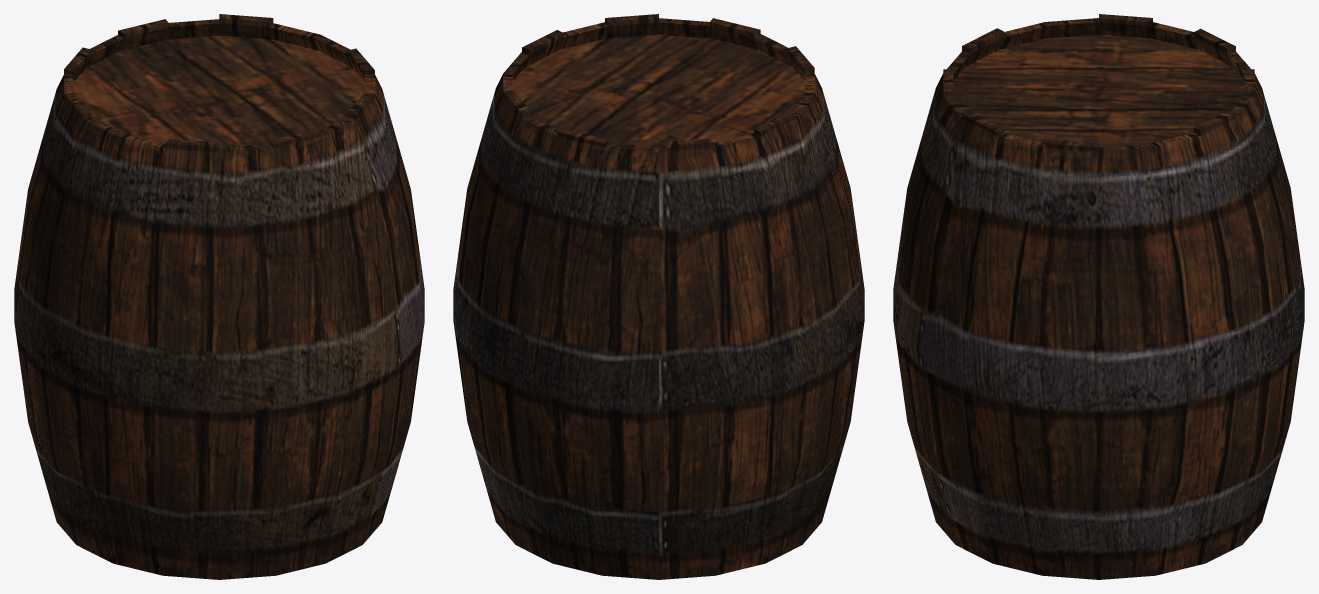
Rendered from barrel.FBX.
3 views of the same model, side by side, from view 1: azimuth 30°, elevation 25°; view 2: azimuth 150°, elevation 25°; view 3: azimuth 270°, elevation 25° (orthographic).
Parts seen in each view (by area): view 1: tonneau; view 2: tonneau; view 3: tonneau.
Boxes of the visible parts, x1=… form: tonneau: x1=14, y1=14, x2=424, y2=579; tonneau: x1=453, y1=14, x2=864, y2=579; tonneau: x1=893, y1=14, x2=1304, y2=579.
Bounding box in the file's own units: 154 × 151 × 175.
